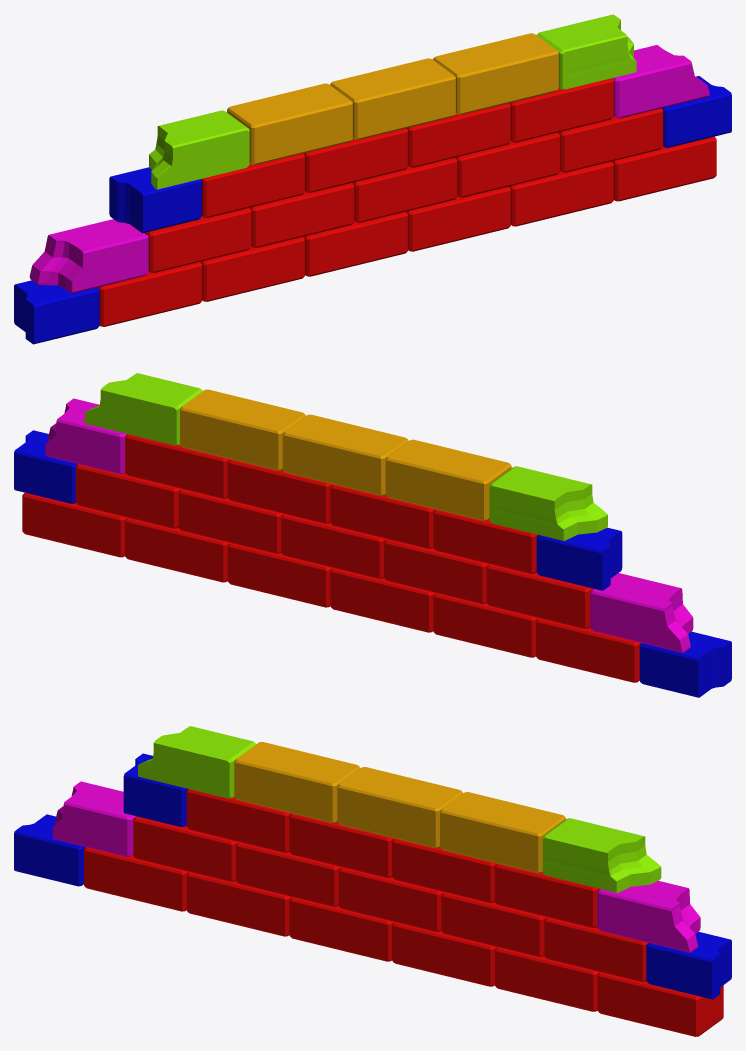
The model's file is MOD_BrickStraighWall.fbx.
3 views of the same model, one above another, from view 1: azimuth 30°, elevation 25°; view 2: azimuth 150°, elevation 25°; view 3: azimuth 330°, elevation 25° (orthographic).
Visible parts, largest first — view 1: polySurface434; view 2: polySurface434; view 3: polySurface434.
Part boxes in pixels (x1,y1,x2,y2): polySurface434: (14,14,731,344); polySurface434: (14,373,731,697); polySurface434: (14,726,731,1036).
Size of the model in its own units: 372 by 83.95 by 25.18.
